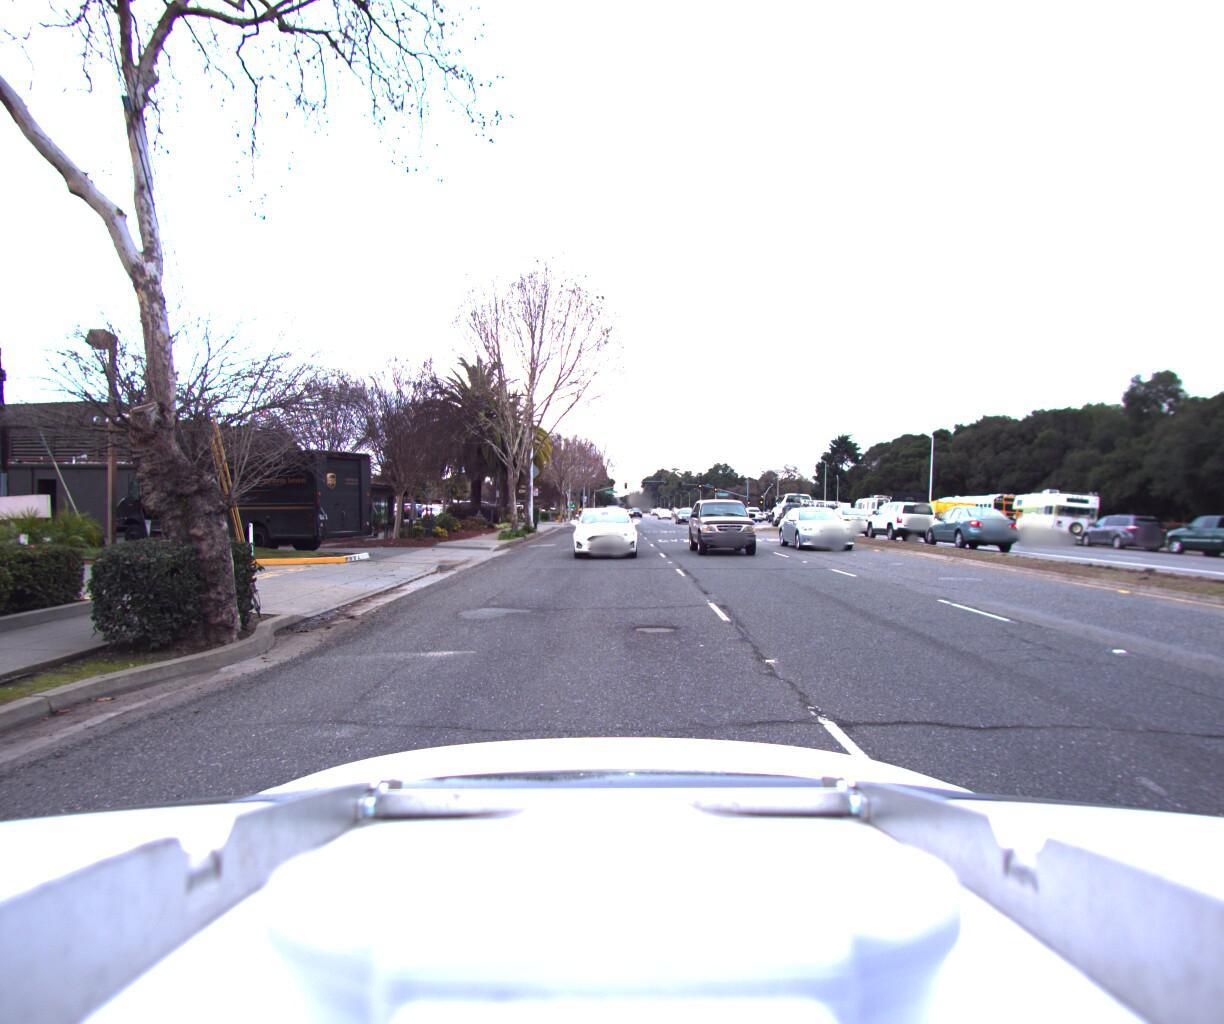bus: (924, 487, 1035, 539)
car: (691, 494, 770, 559), (919, 504, 1025, 551), (783, 503, 876, 552), (1069, 509, 1172, 550), (570, 500, 641, 558), (1151, 510, 1224, 560), (861, 494, 941, 537), (815, 501, 878, 533)
other_vehicle: (1002, 484, 1104, 541)
truck: (104, 446, 377, 553), (861, 481, 964, 532), (767, 486, 843, 528), (845, 489, 903, 528)
